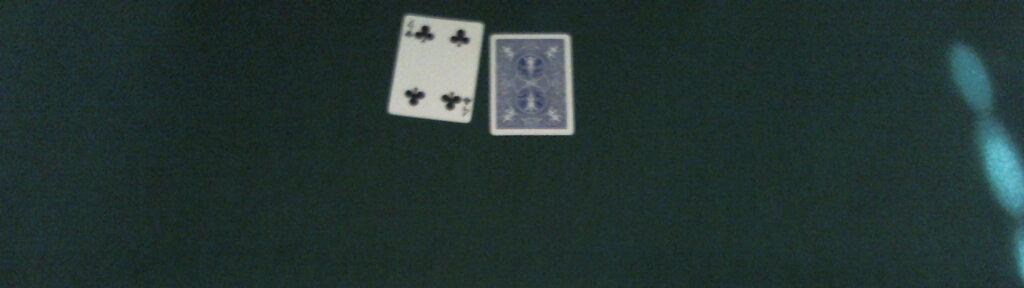back: (487, 34, 574, 137)
four: (387, 14, 485, 123)
